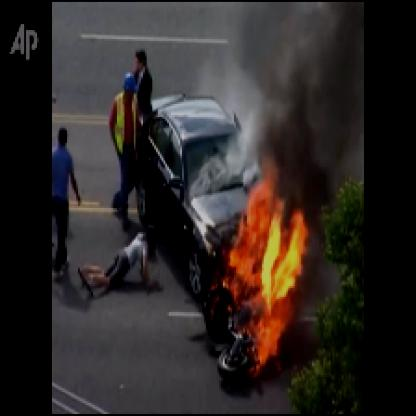Fire: (204, 161, 303, 379)
Smoke: (240, 2, 358, 171)
